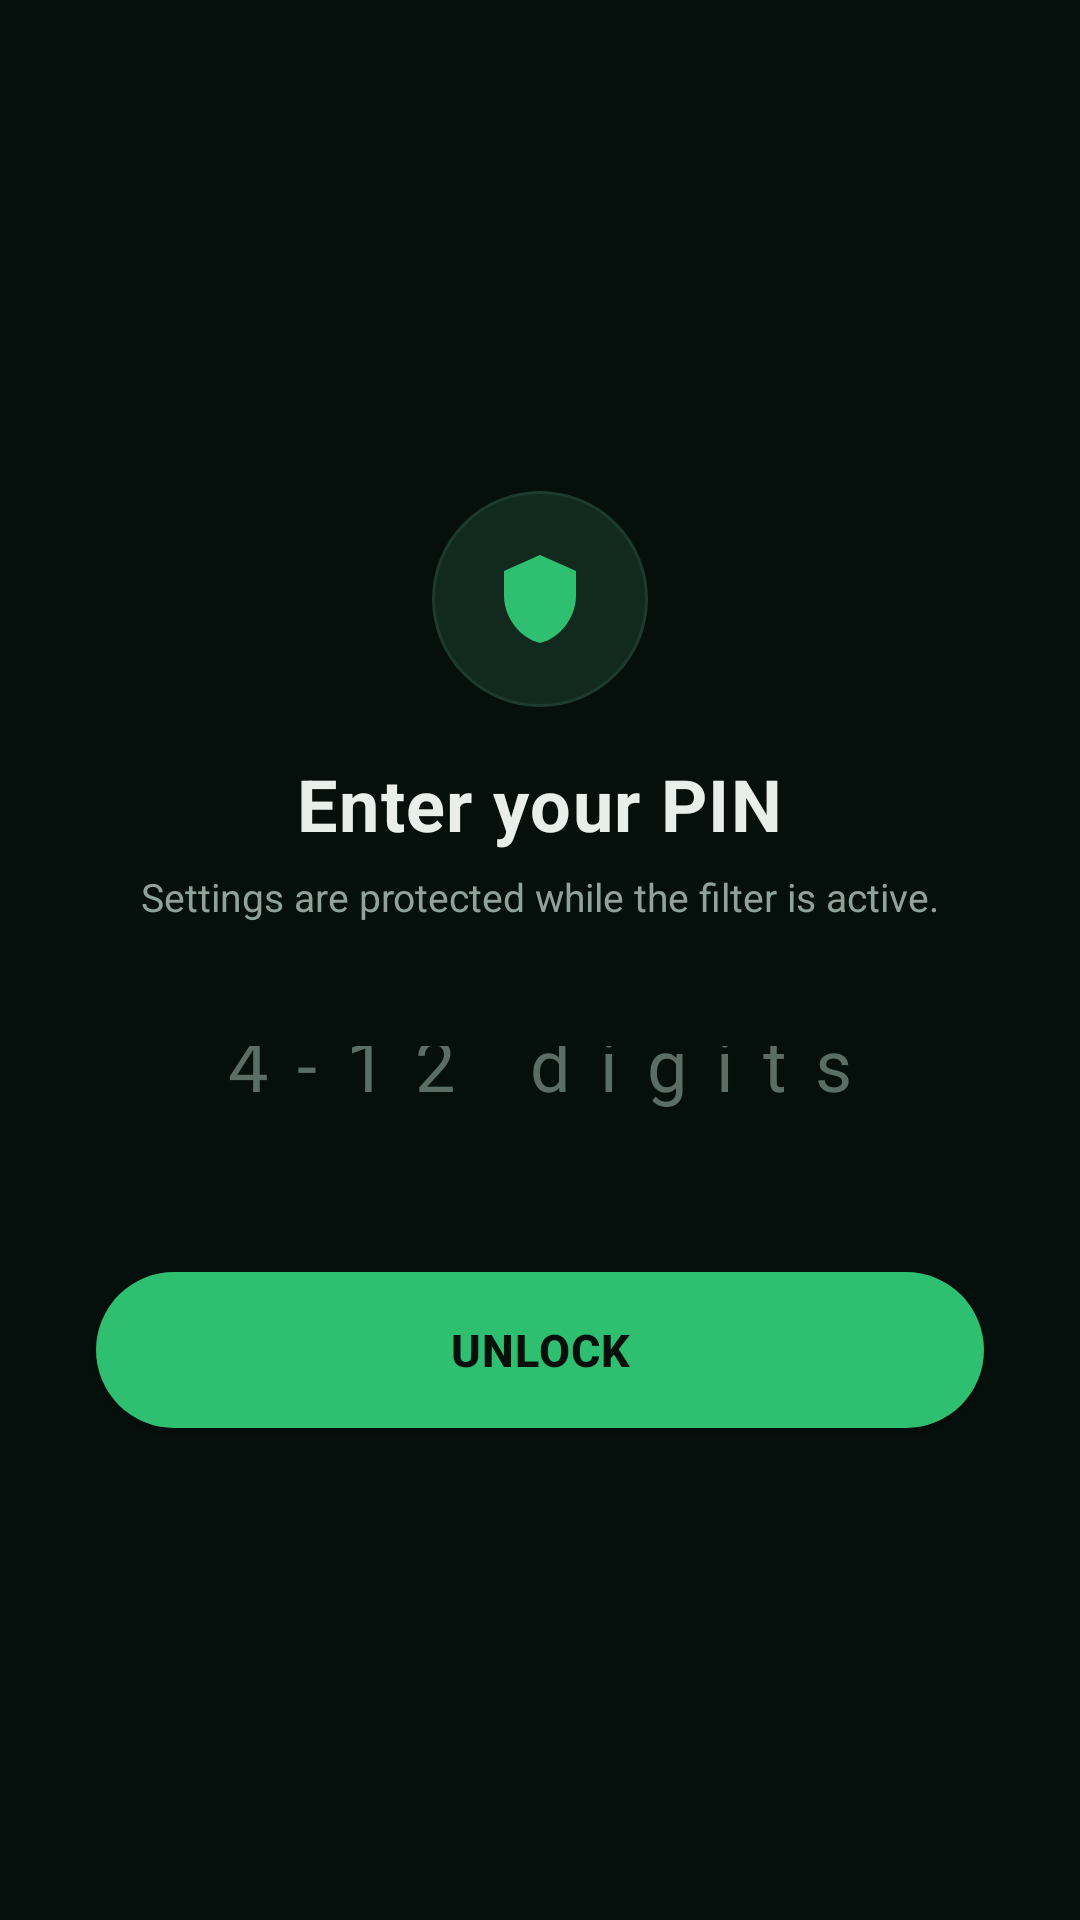

Where icons sit on this 1080 × 1920 app screen, as BBox(x1, y1, x2, y2):
Protected: BBox(432, 491, 648, 707)
